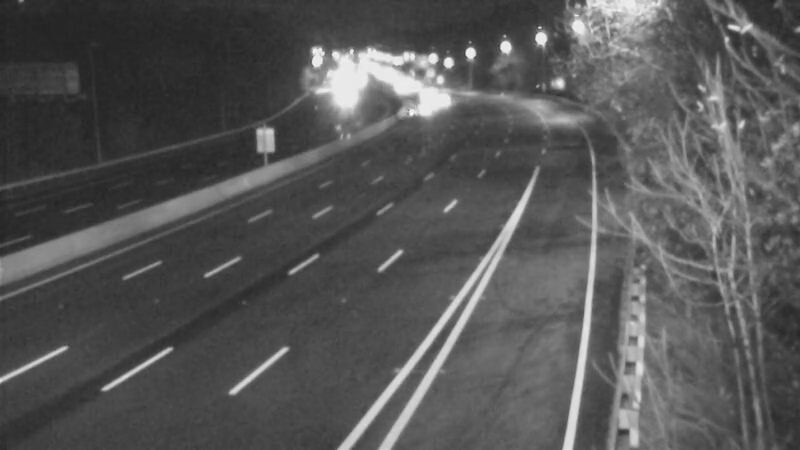vehicle: (417, 75, 467, 125), (390, 86, 440, 136)
